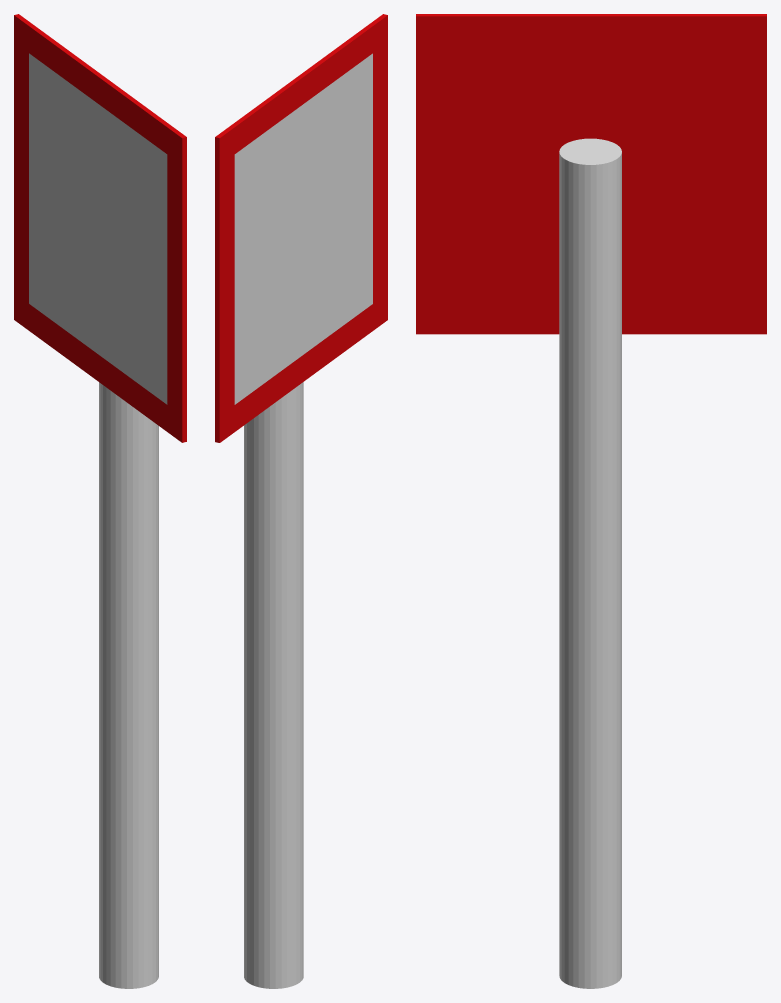
File: Road Sign 2.fbx
The picture shows the model from 3 angles, left to right: view 1: azimuth 30°, elevation 25°; view 2: azimuth 150°, elevation 25°; view 3: azimuth 270°, elevation 25°; orthographic projection. The views are drawn at different scales.
Visible parts, largest first — view 1: Cube.003, Cylinder; view 2: Cube.003, Cylinder; view 3: Cube.003, Cylinder.
Part boxes in pixels (left/top/right/bottom): Cube.003: left=14, top=14, right=186, bottom=442; Cylinder: left=99, top=382, right=158, bottom=988; Cube.003: left=215, top=14, right=387, bottom=442; Cylinder: left=244, top=382, right=303, bottom=988; Cube.003: left=416, top=14, right=766, bottom=334; Cylinder: left=559, top=138, right=621, bottom=988.
Size of the model in its own units: 26.12 by 401 by 135.
